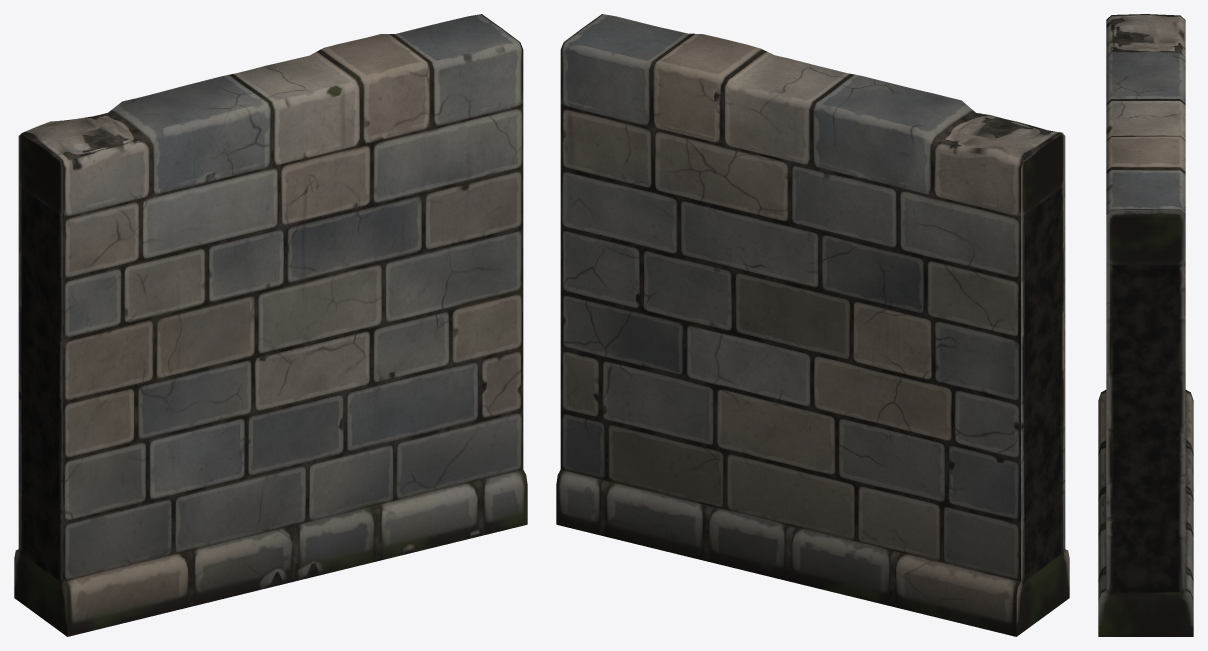
File: wall_b.glb
The picture shows the model from 3 angles, left to right: view 1: azimuth 30°, elevation 25°; view 2: azimuth 150°, elevation 25°; view 3: azimuth 270°, elevation 25°; orthographic projection. The views are drawn at different scales.
Visible parts, largest first — view 1: wall_b; view 2: wall_b; view 3: wall_b.
Boxes of the visible parts, box(x1,y1,x2,y2) form: wall_b: box(14, 14, 527, 636); wall_b: box(556, 14, 1069, 636); wall_b: box(1098, 14, 1193, 636).
Bounding box in the file's own units: 4 × 4 × 0.8.
Materials: 1 (1 with a texture image).
